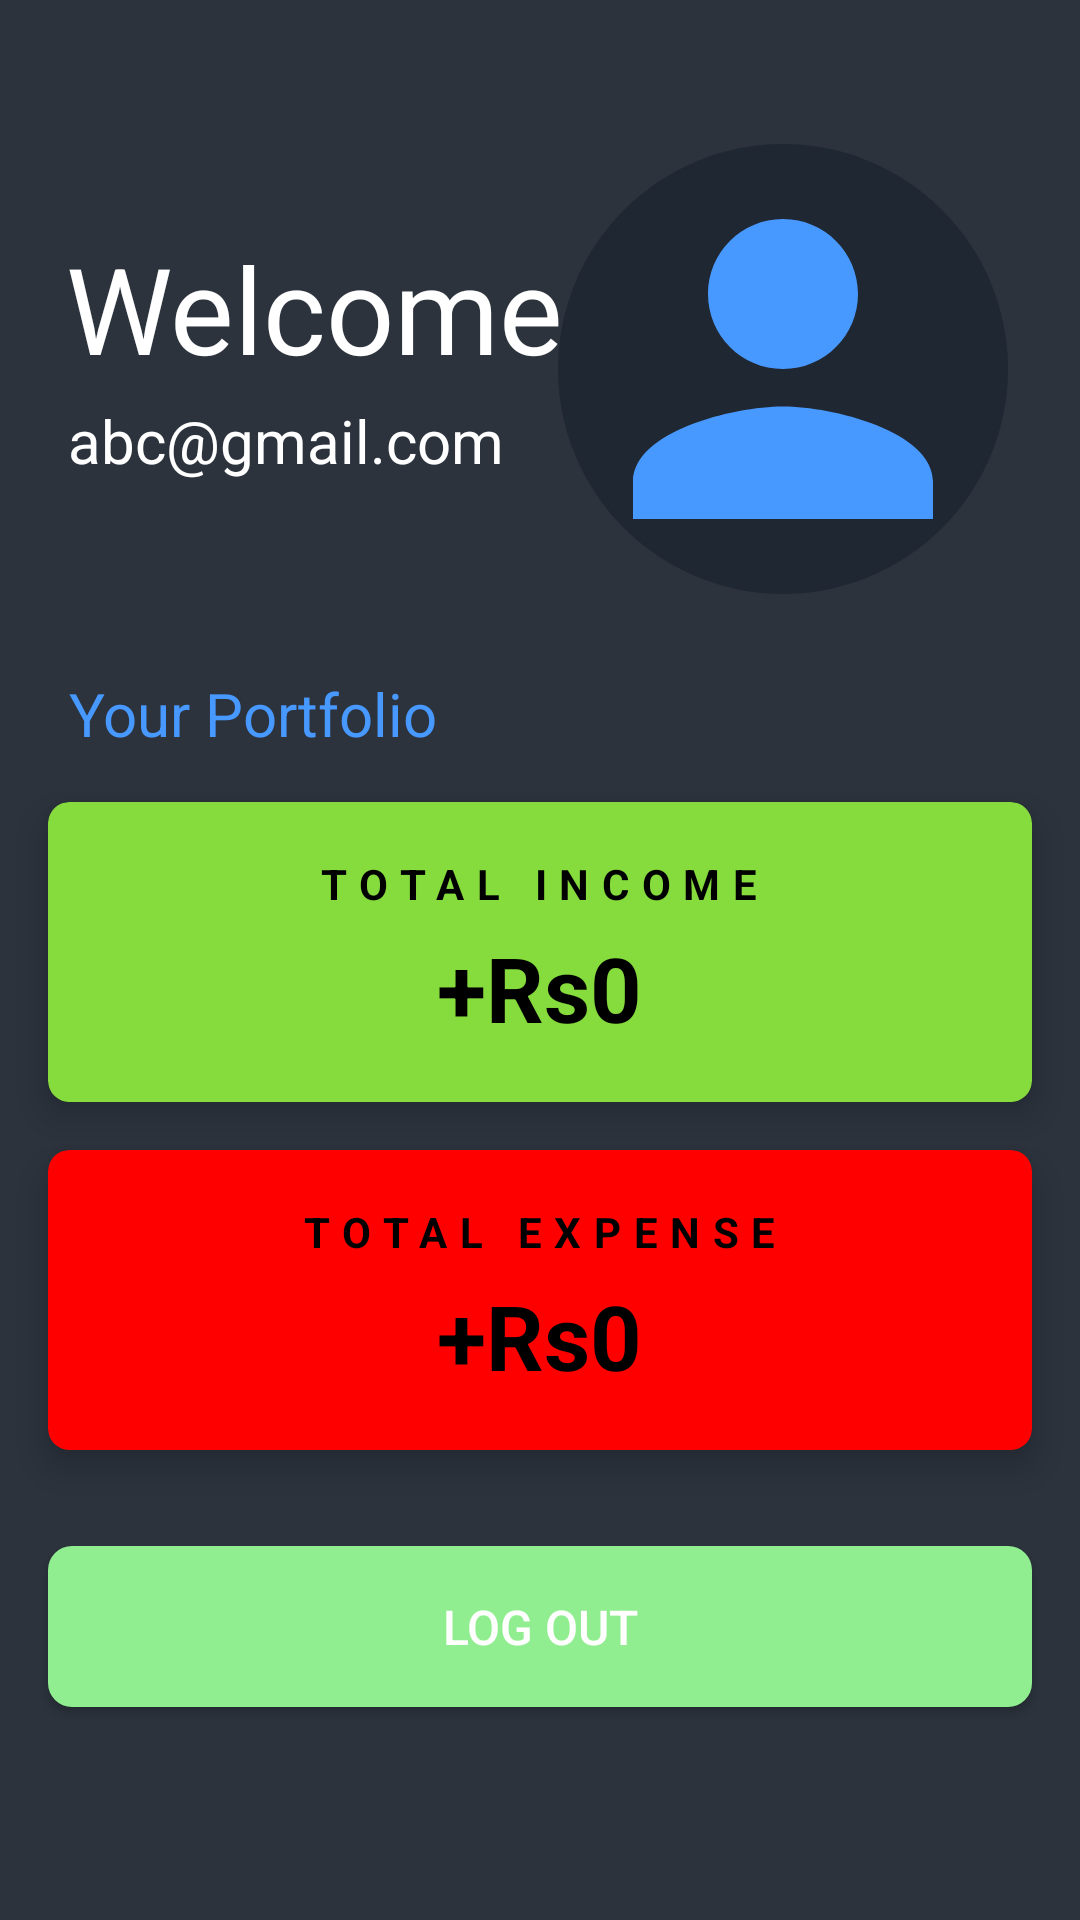

Icons on this 1080×1920 Android screen, each with the point to tap as (x=x, y=y):
person: (x=783, y=369)
